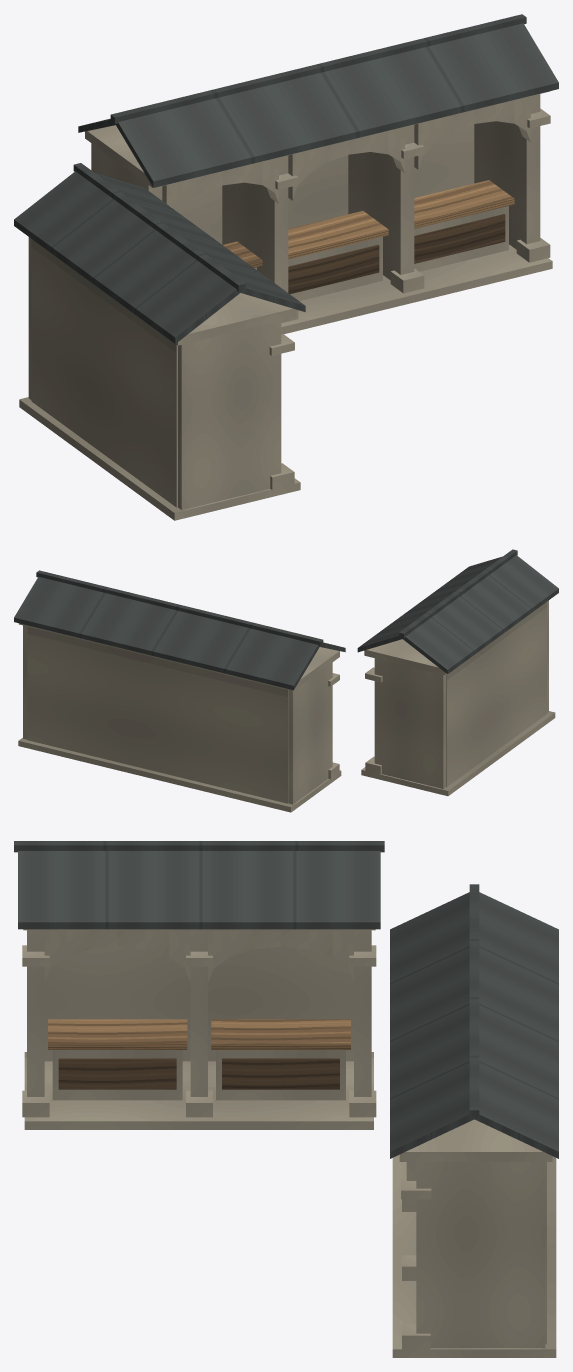
The model's file is apia.glb.
3 views of the same model, one above another, from view 1: azimuth 30°, elevation 25°; view 2: azimuth 150°, elevation 25°; view 3: azimuth 270°, elevation 25° (orthographic). The views are drawn at different scales.
Visible parts, largest first — view 1: apia; view 2: apia; view 3: apia.
Boxes of the visible parts, bbox=[...] form: apia: bbox=[14, 14, 558, 520]; apia: bbox=[14, 549, 558, 812]; apia: bbox=[14, 841, 558, 1357].
Size of the model in its own units: 6.44 by 2.5 by 4.9.
1 material, 1 textured.
